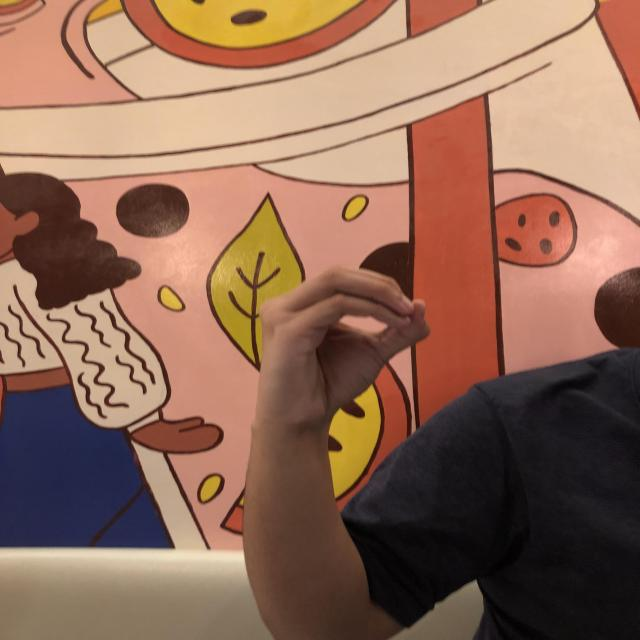O: (255, 262, 433, 432)
